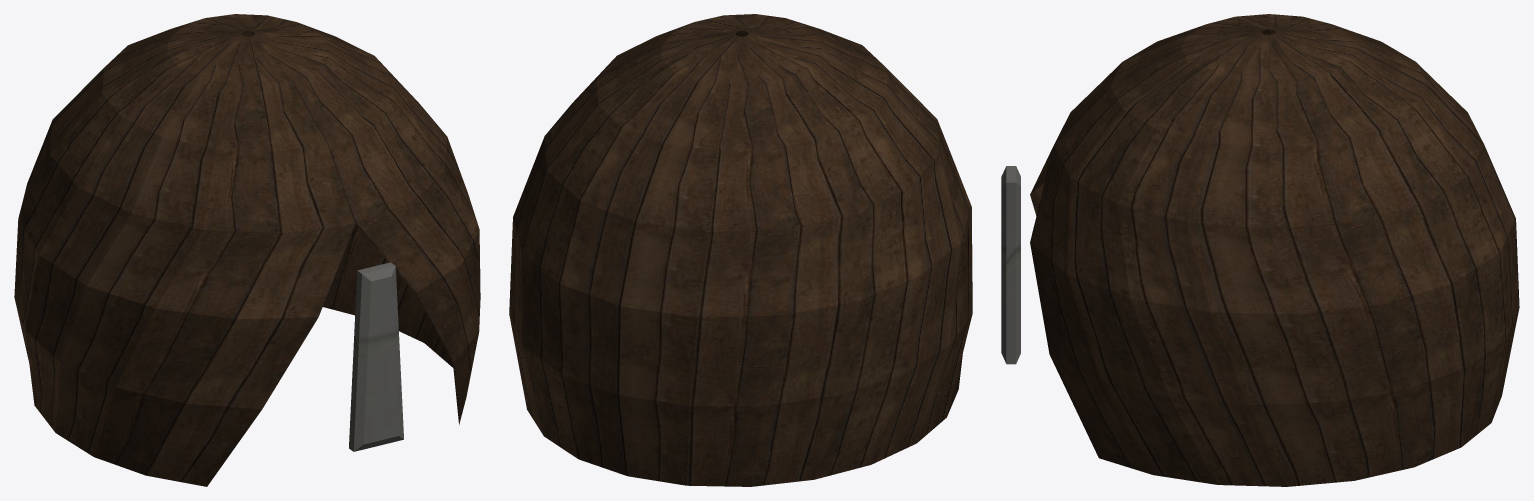
File: eq_past_1_head.glb
The picture shows the model from 3 angles, left to right: view 1: azimuth 30°, elevation 25°; view 2: azimuth 150°, elevation 25°; view 3: azimuth 270°, elevation 25°; orthographic projection.
Visible parts, largest first — view 1: eq_past_1_head; view 2: eq_past_1_head; view 3: eq_past_1_head.
Boxes of the visible parts, bbox=[...] form: eq_past_1_head: bbox=[14, 14, 480, 486]; eq_past_1_head: bbox=[509, 14, 972, 486]; eq_past_1_head: bbox=[1001, 14, 1519, 486].
Bounding box in the file's own units: 0.2831 × 0.246 × 0.3174.
Materials: 2 (2 with a texture image).
